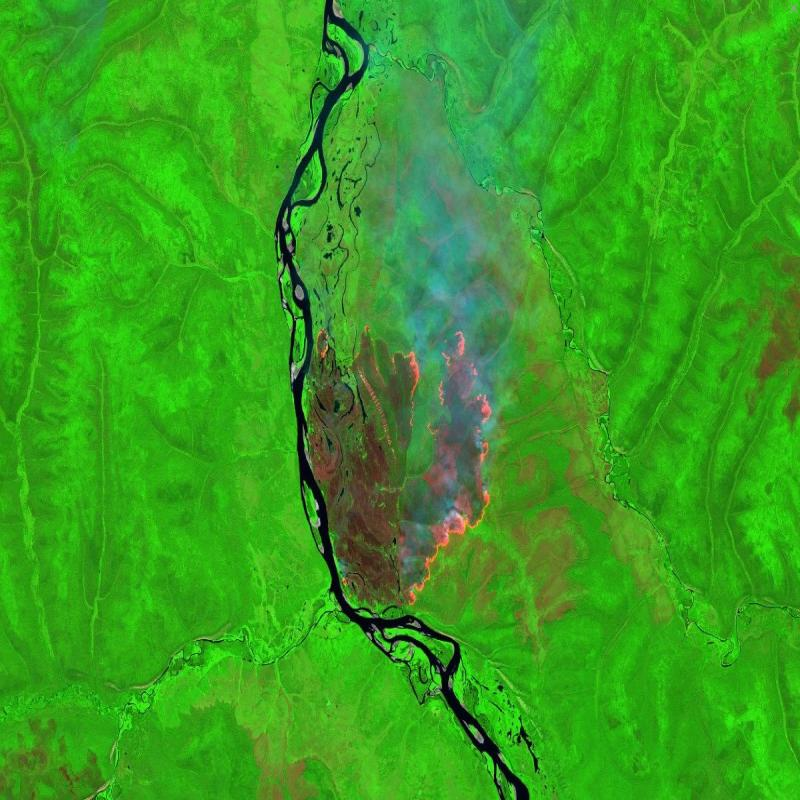fire: (357, 316, 500, 610), (310, 317, 335, 362)
